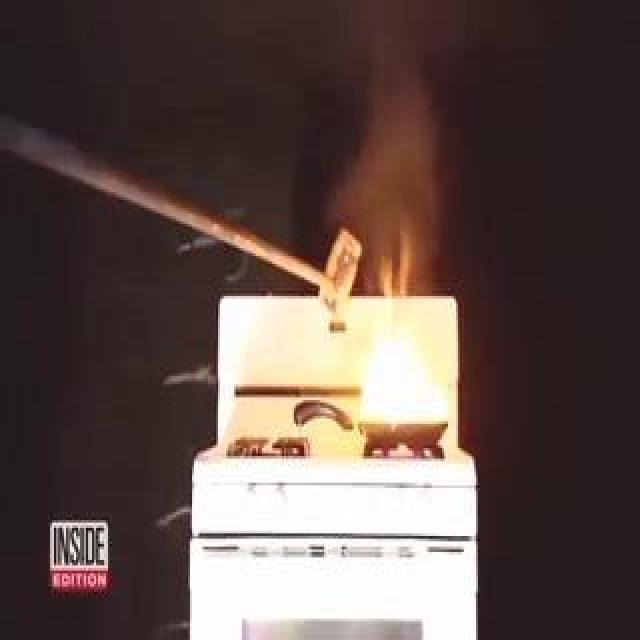Fire: (353, 206, 439, 438)
